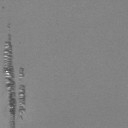slag inclusion: (4, 34, 16, 128), (18, 84, 26, 104), (18, 106, 26, 112), (20, 68, 24, 76)
